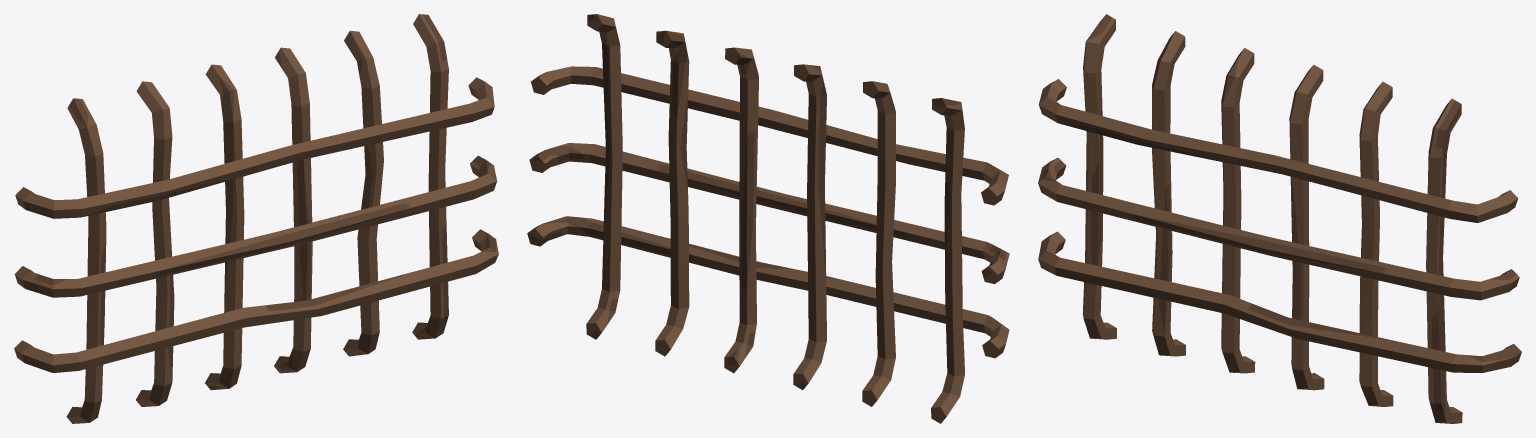
File: SM_Bld_Window_Bars_02.glb
3 views of the same model, side by side, from view 1: azimuth 30°, elevation 25°; view 2: azimuth 150°, elevation 25°; view 3: azimuth 330°, elevation 25° (orthographic).
Visible parts, largest first — view 1: SM_Bld_Window_Bars_02; view 2: SM_Bld_Window_Bars_02; view 3: SM_Bld_Window_Bars_02.
Boxes of the visible parts, x1,y1,x2,y2 form: SM_Bld_Window_Bars_02: (14, 14, 498, 423); SM_Bld_Window_Bars_02: (527, 14, 1009, 423); SM_Bld_Window_Bars_02: (1038, 14, 1521, 423).
Size of the model in its own units: 2.3 by 1.52 by 0.268.
1 material, 1 textured.
